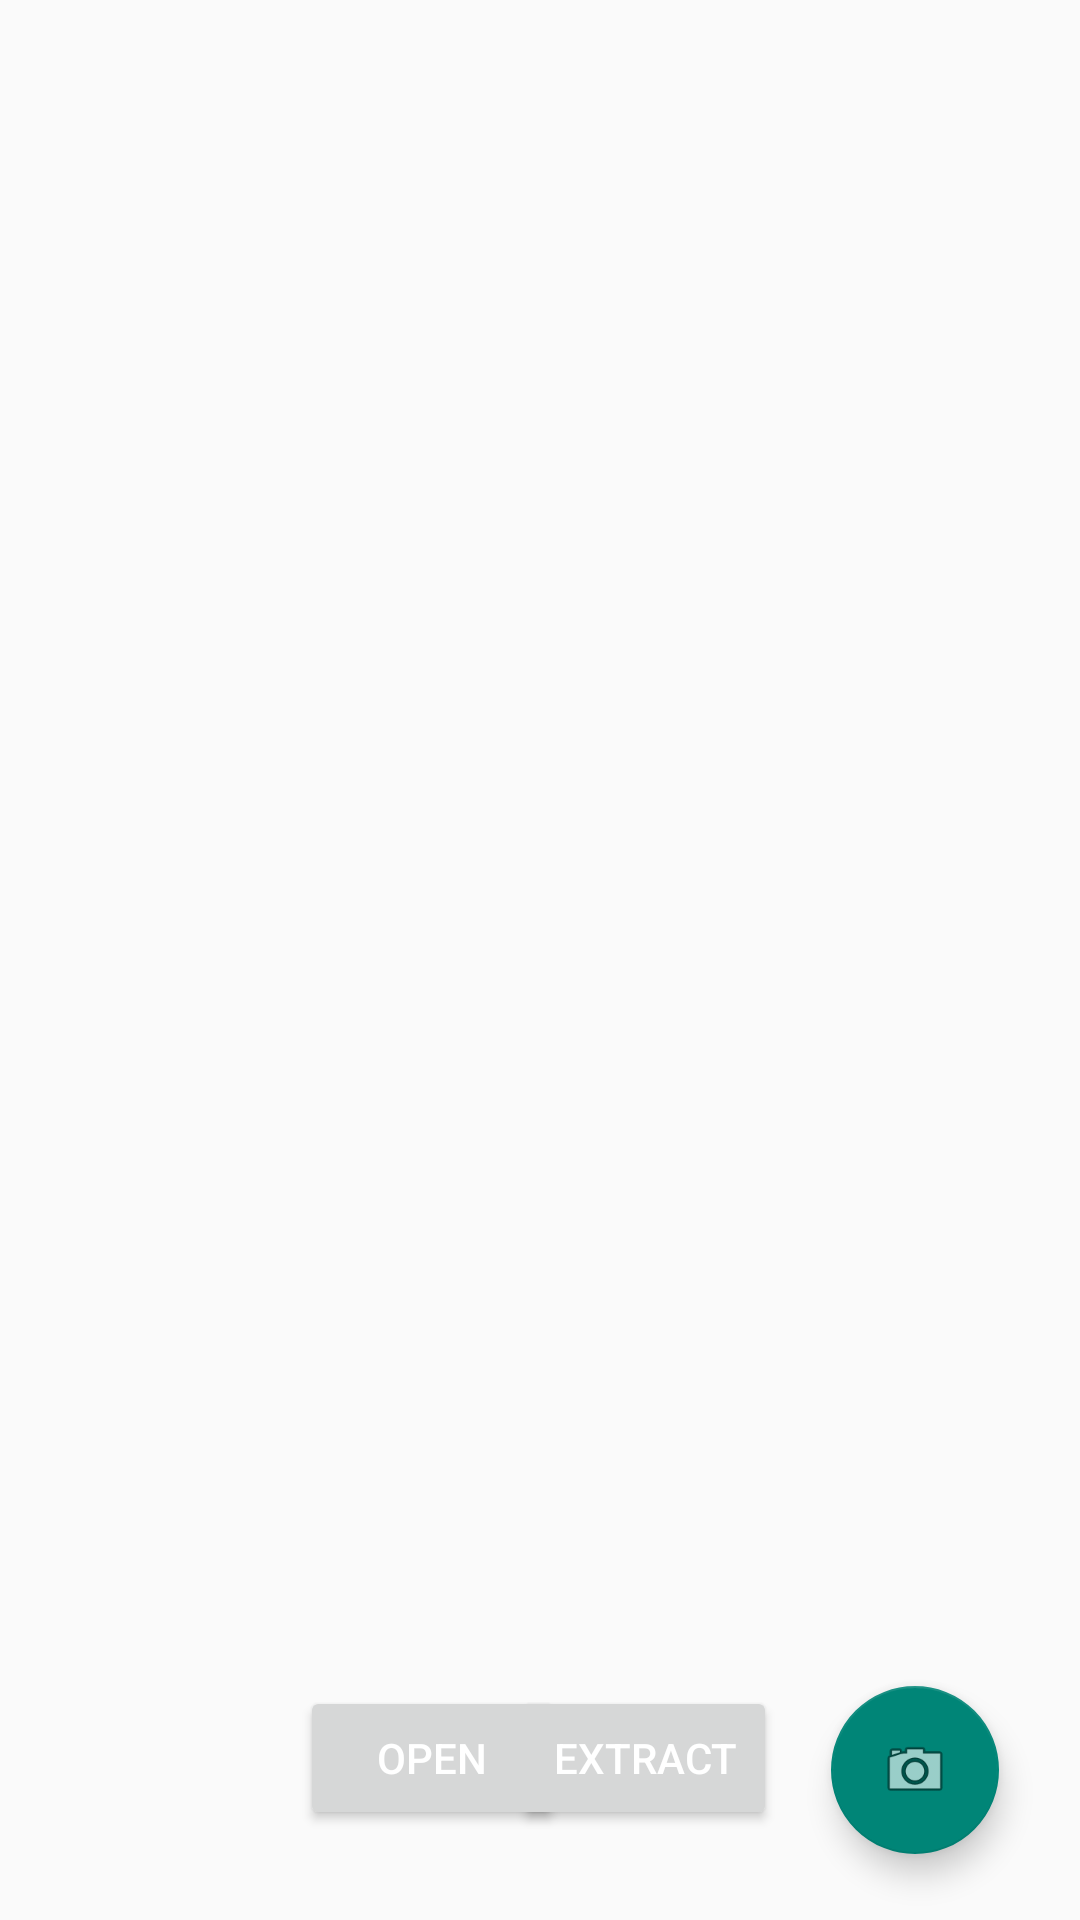

Point at icon controls on the screen. Image size 1080px x 1920px, points as (x=x, y=y).
camera: (x=915, y=1770)
